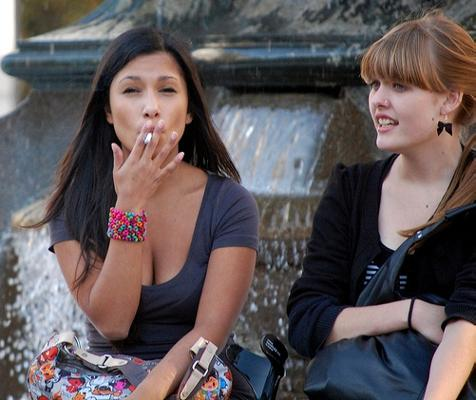person: (47, 28, 259, 400)
